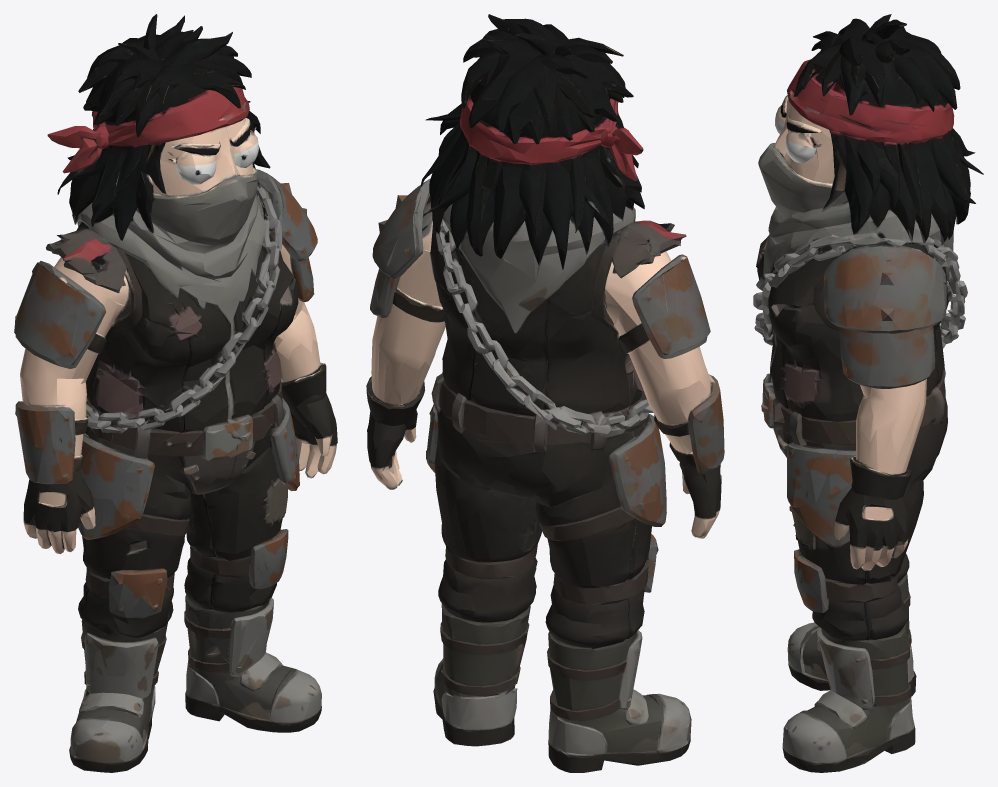
The model's file is deathstalker-b.glb.
3 renders of one model, left to right at view 1: azimuth 30°, elevation 25°; view 2: azimuth 150°, elevation 25°; view 3: azimuth 270°, elevation 25°, orthographic. The views are drawn at different scales.
Size of the model in its own units: 0.9169 by 1.9 by 0.5725.
1 material, 1 textured.
